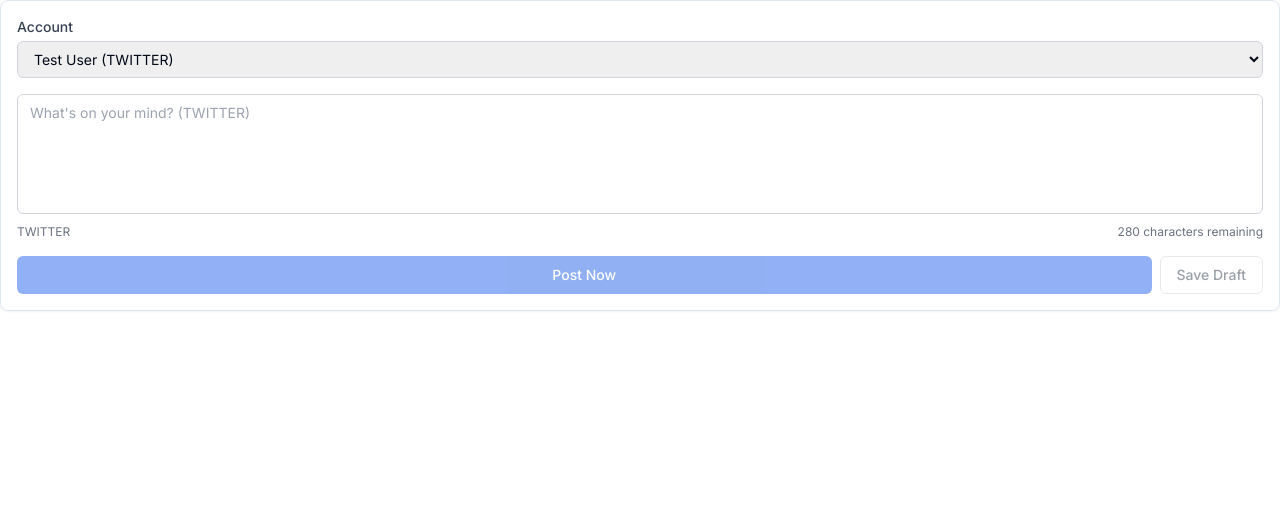
Scenario: PostComposer › should add hashtag on Enter
Click the text box named "Post content".
click(640, 154)  # box [17,94,1263,214]
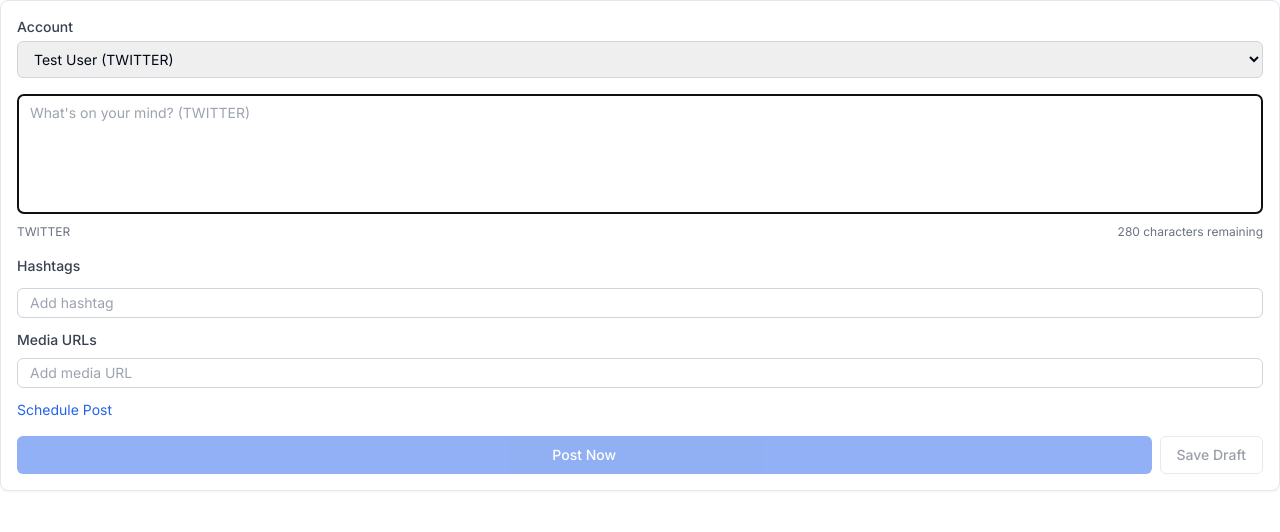
Type "test" into the field with placeholder "Add hashtag".
click(640, 303); type("test")  # box [17,288,1263,318]
Then press Enter
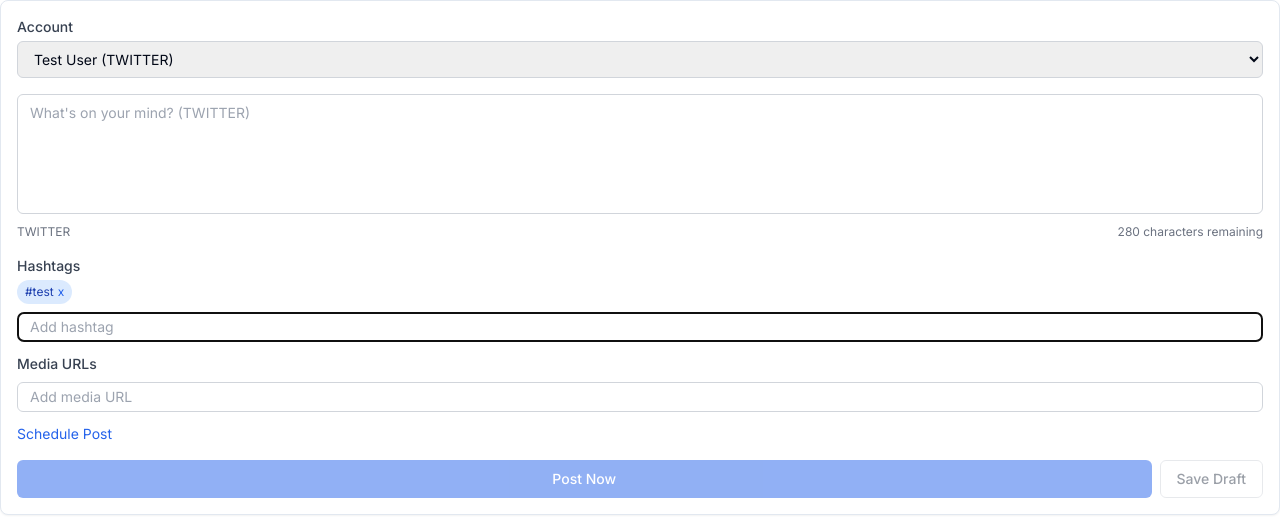
Now the text "#test" is shown, box [25,284,54,299]
